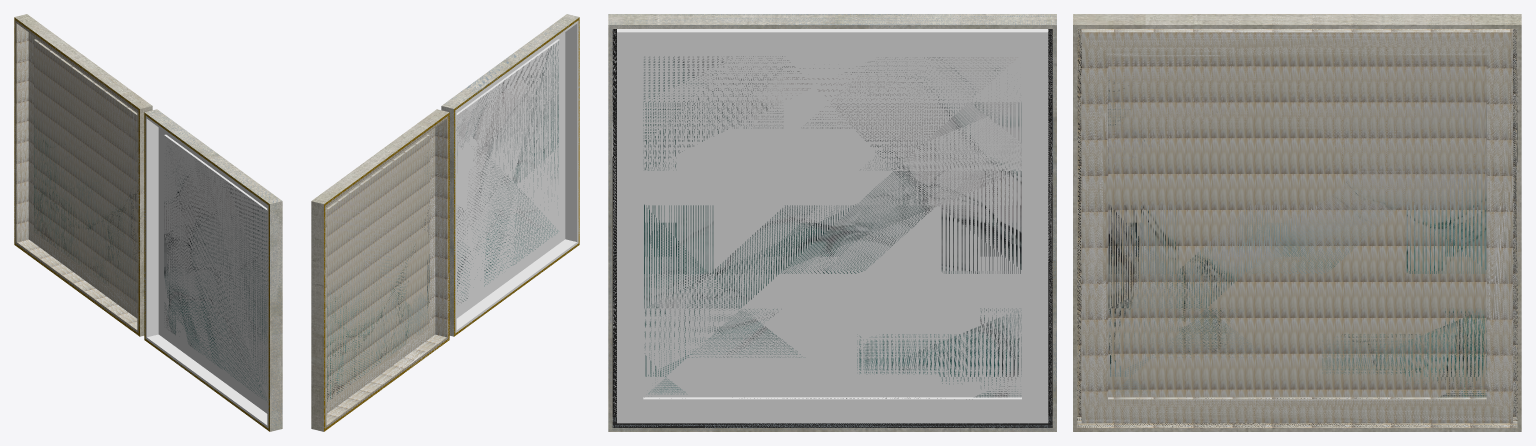
File: art29.dae
3 renders of one model, left to right at view 1: azimuth 30°, elevation 25°; view 2: azimuth 150°, elevation 25°; view 3: azimuth 270°, elevation 25°, orthographic. The views are drawn at different scales.
Visible parts, largest first — view 1: group_0 (×6), group_1 (×6); view 2: group_1 (×6), group_0 (×6); view 3: group_0 (×5), group_1 (×5).
Part boxes in pixels (x1,y1,x2,y2): group_0 (×6): [144, 109, 282, 431]; group_1 (×6): [14, 14, 152, 336]; group_1 (×6): [311, 109, 449, 431]; group_0 (×6): [441, 14, 579, 336]; group_0 (×5): [608, 14, 1056, 431]; group_1 (×5): [1073, 14, 1521, 431].
Bounding box in the file's own units: 1.18 × 40.87 × 20.08.
9 materials, 4 textured.
